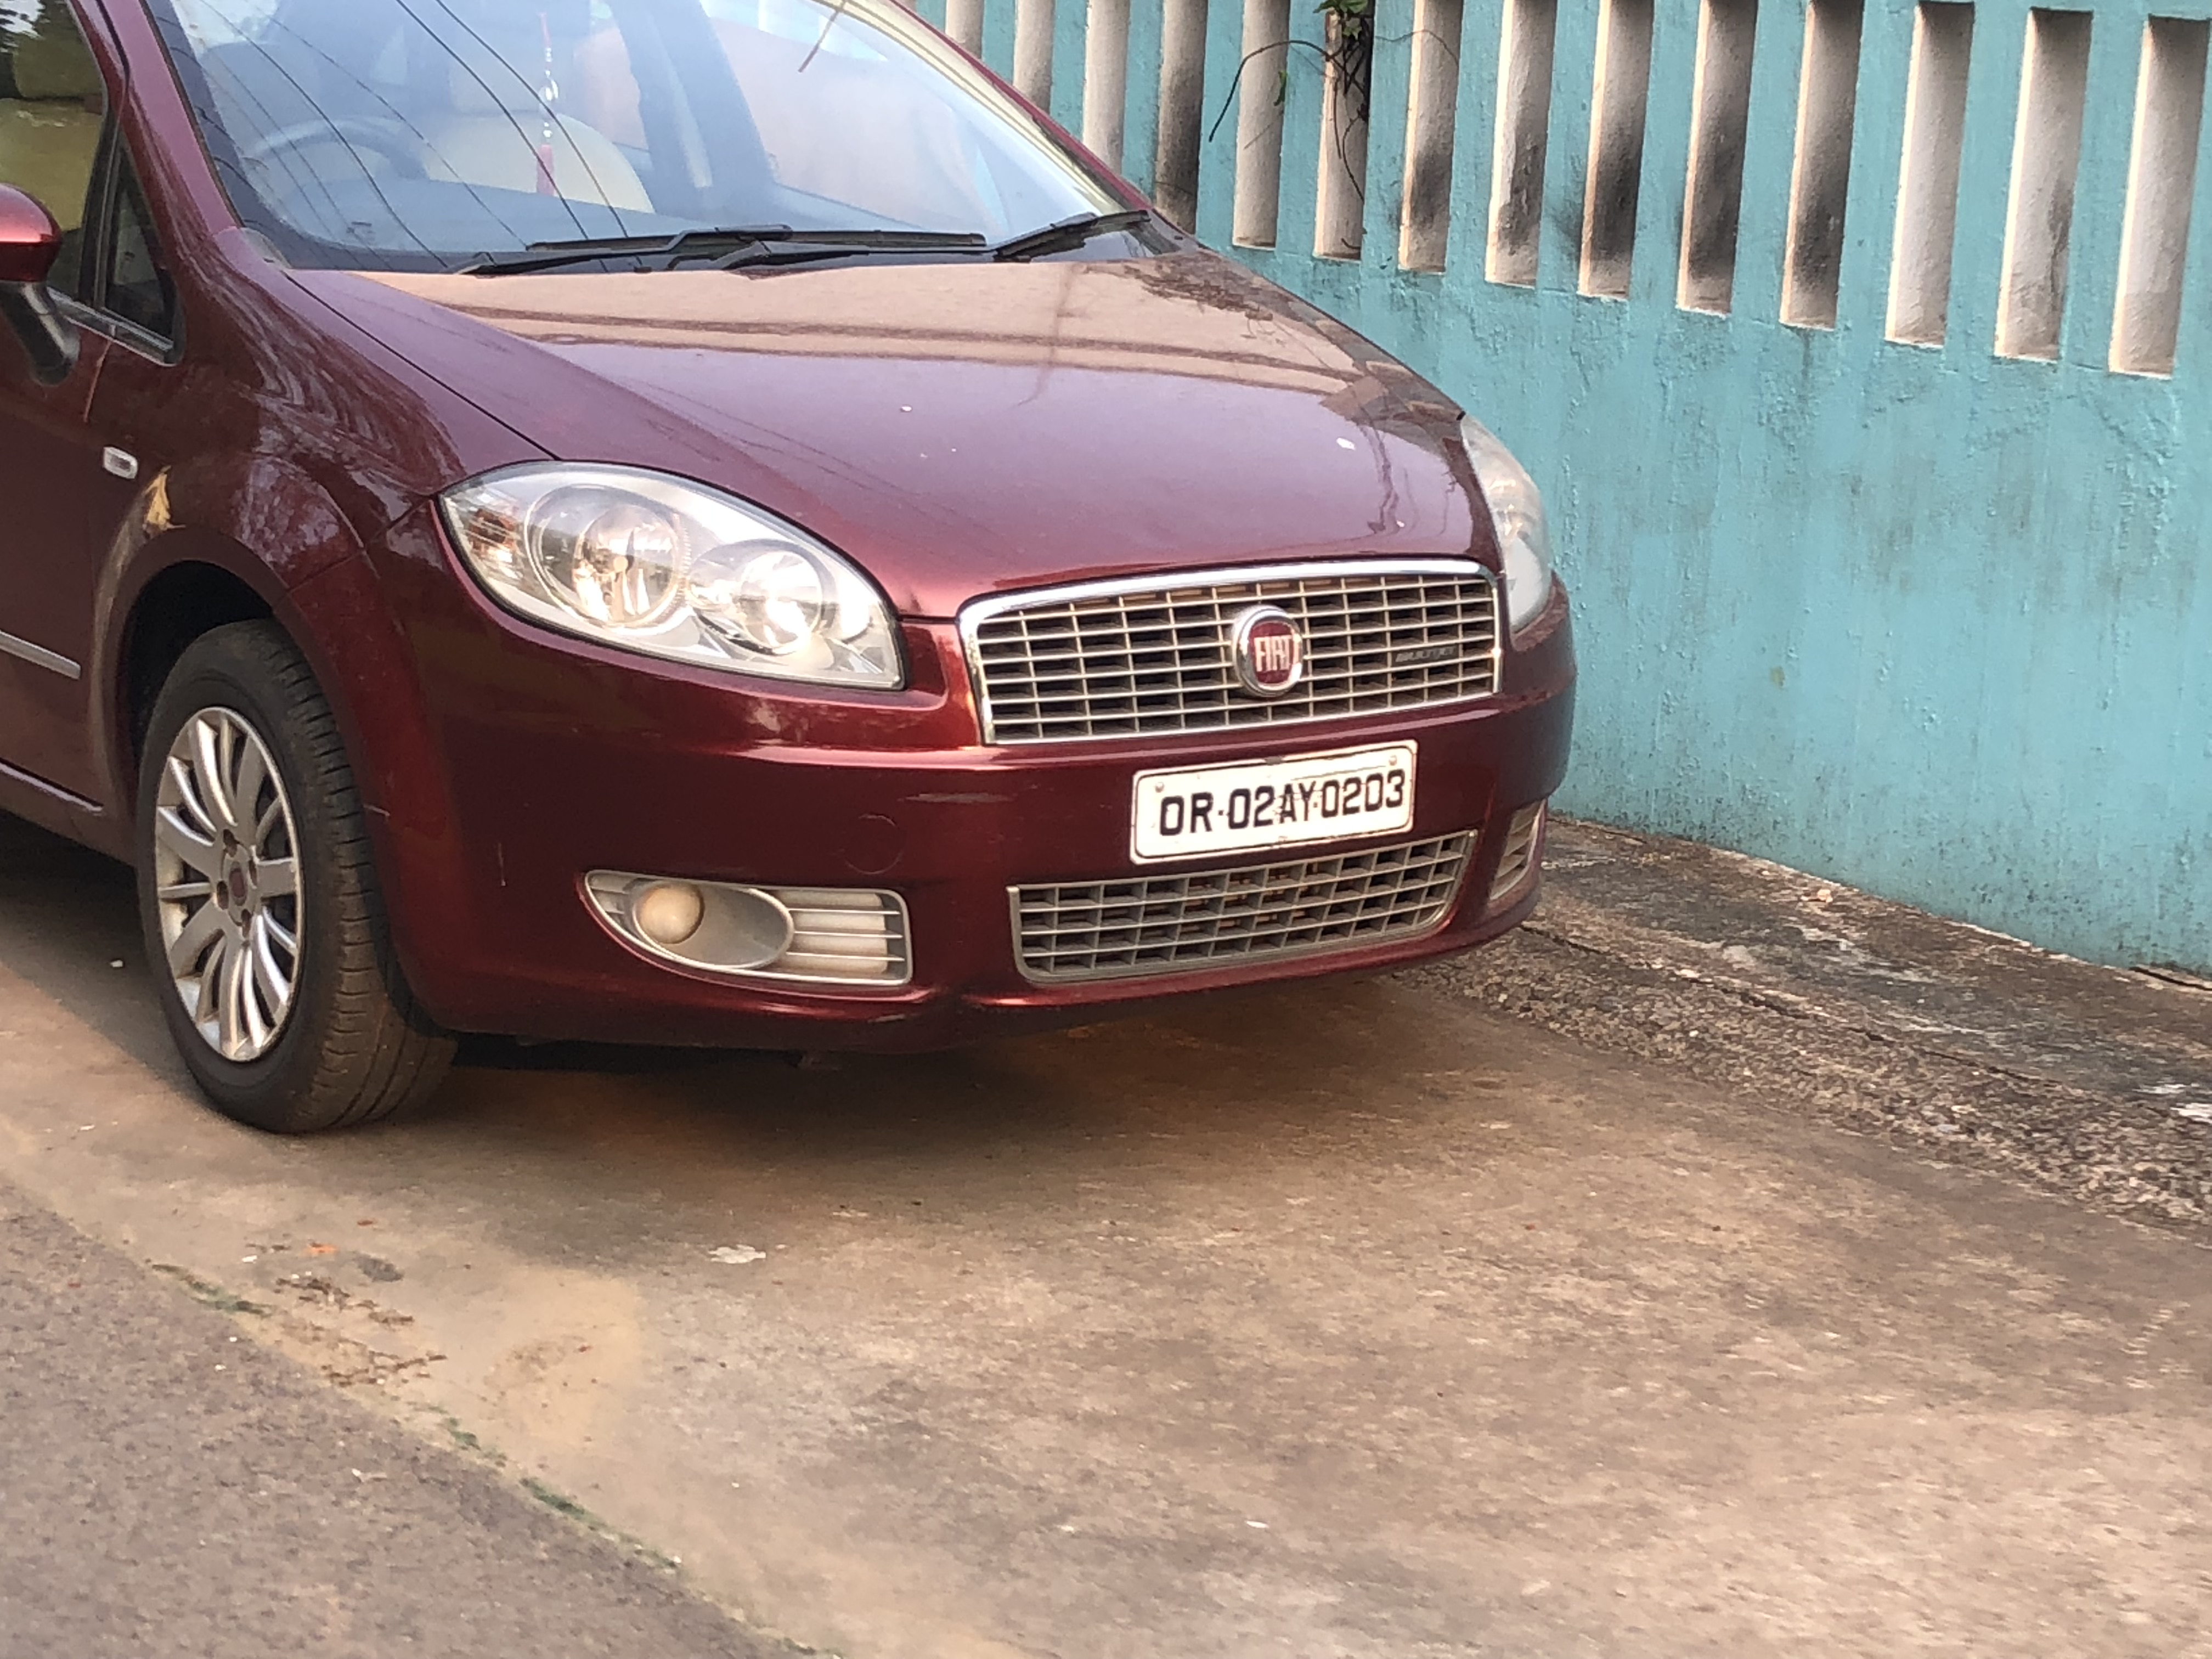licenseplate: (1120, 738, 1436, 850)
